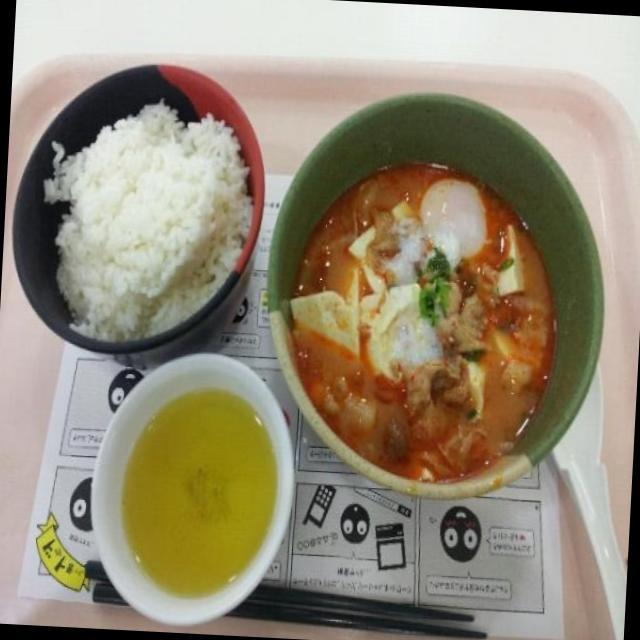Rice: (48, 88, 246, 335)
